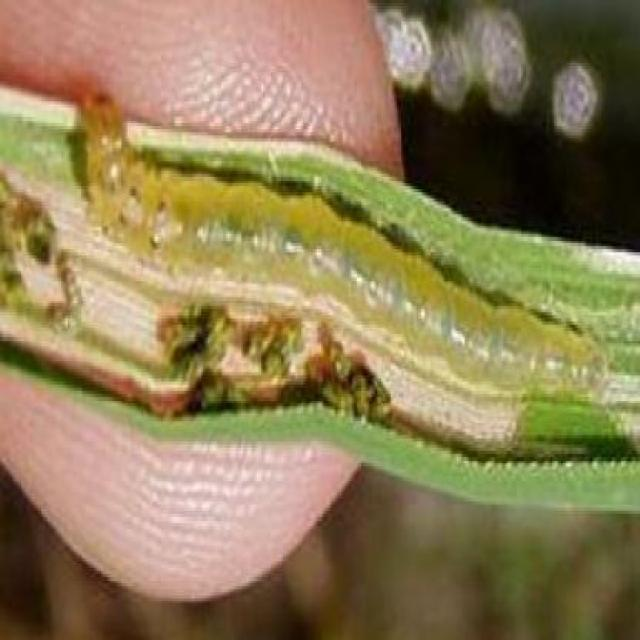leaf-folder: (80, 68, 640, 422)
